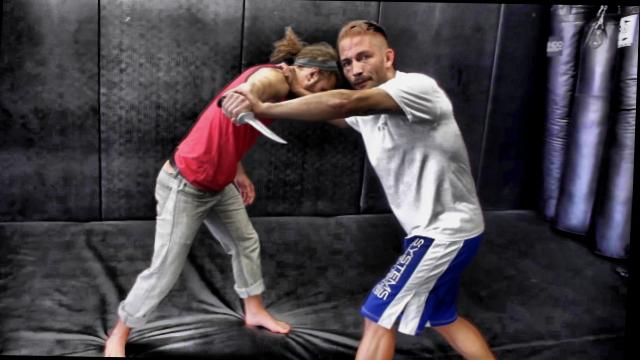knife: (213, 94, 294, 148)
